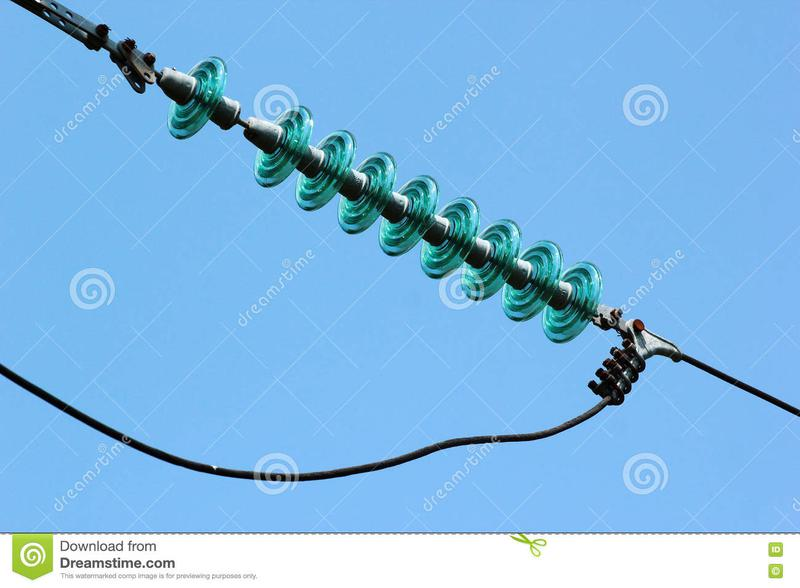isolator: (165, 55, 604, 346)
